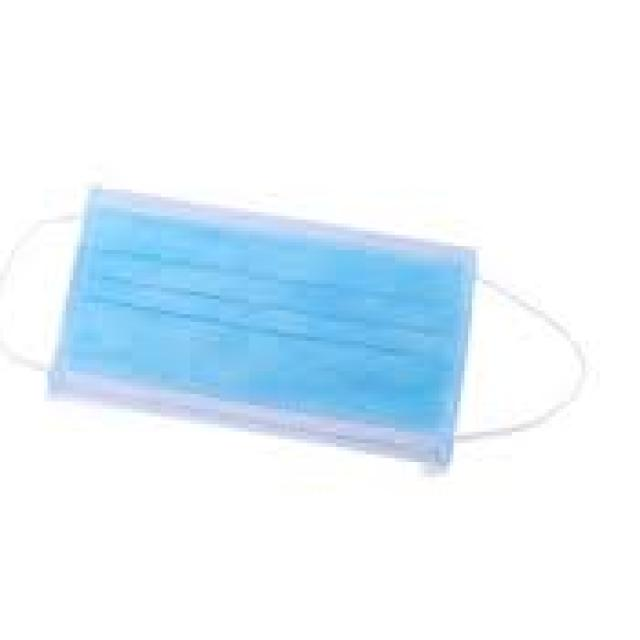organic: (44, 122, 568, 548)
